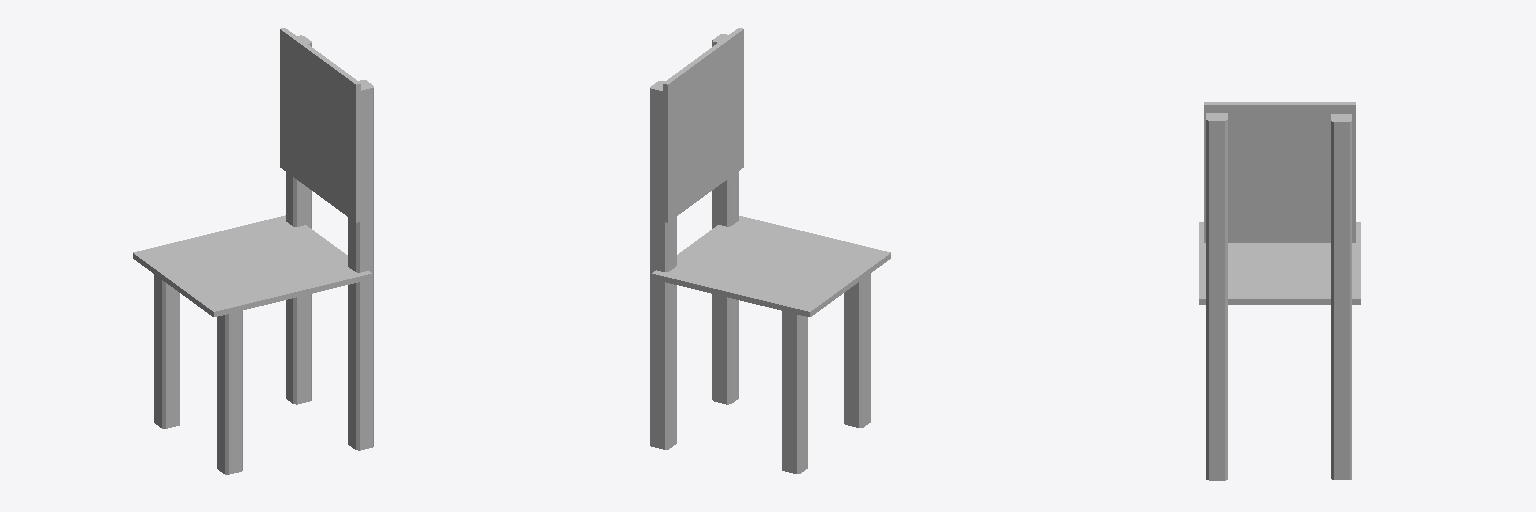
Rendered from cadeira2.obj.
3 renders of one model, left to right at view 1: azimuth 30°, elevation 25°; view 2: azimuth 150°, elevation 25°; view 3: azimuth 270°, elevation 25°, orthographic.
Visible parts, largest first — view 1: Cubo.002; view 2: Cubo.002; view 3: Cubo.002.
Boxes of the visible parts, x1,y1,x2,y2 form: Cubo.002: [133, 28, 373, 474]; Cubo.002: [650, 28, 890, 473]; Cubo.002: [1199, 102, 1360, 480].
Bounding box in the file's own units: 0.4595 × 0.9756 × 0.3899.